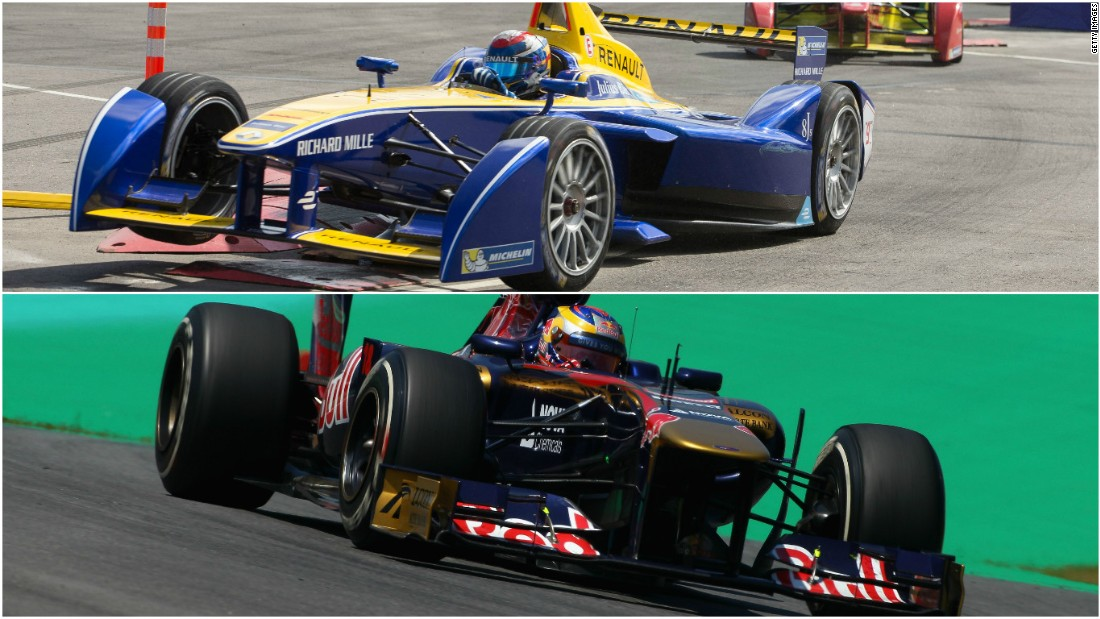f1_car: (144, 292, 983, 619), (57, 2, 890, 291)
